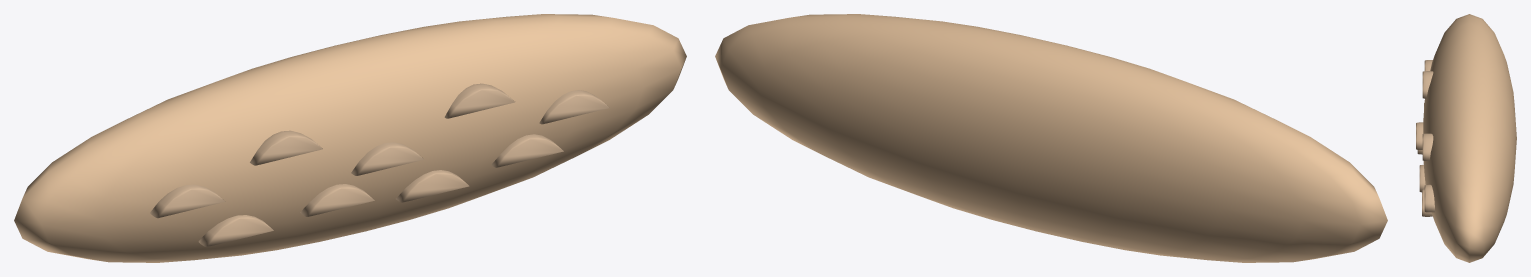
Rendered from decor_5_classic.glb.
The picture shows the model from 3 angles, left to right: view 1: azimuth 30°, elevation 25°; view 2: azimuth 150°, elevation 25°; view 3: azimuth 270°, elevation 25°; orthographic projection. The views are drawn at different scales.
Visible parts, largest first — view 1: decor_5_classic; view 2: decor_5_classic; view 3: decor_5_classic.
Part boxes in pixels (x1,y1,x2,y2): decor_5_classic: [14, 14, 686, 262]; decor_5_classic: [715, 14, 1387, 262]; decor_5_classic: [1416, 14, 1516, 262].
Bounding box in the file's own units: 14 × 3.6 × 2.73.
